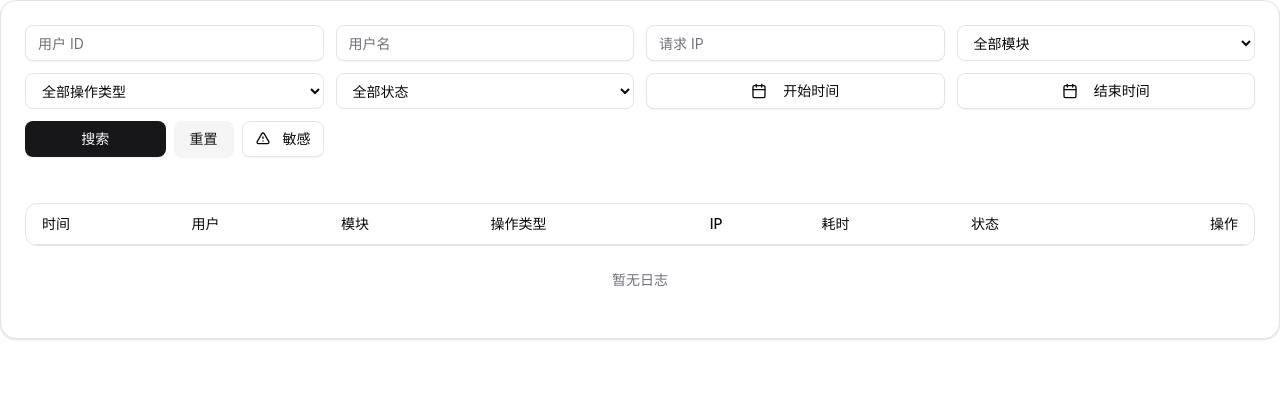
Test: AuditDashboard high-frequency drill › uses server-side pagination when sensitive mode is selected
The width and height of the screenshot is (1280, 397).
Click the button "敏感" at (282, 139), box [242, 121, 324, 157]
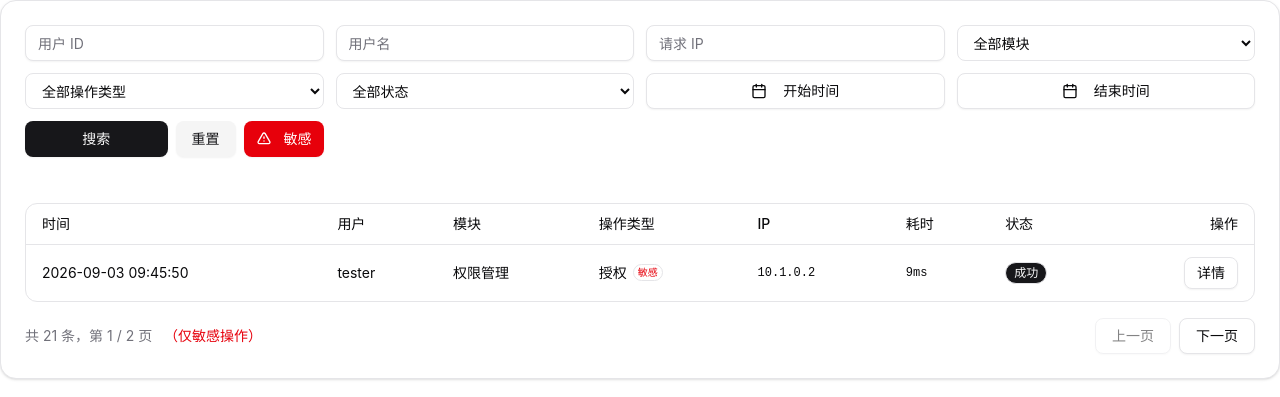
Result: the text "授权" is shown 2 times
Result: the text "共 21 条，第 1 / 2 页 （仅敏感操作）" is shown at [25, 326, 262, 346]
